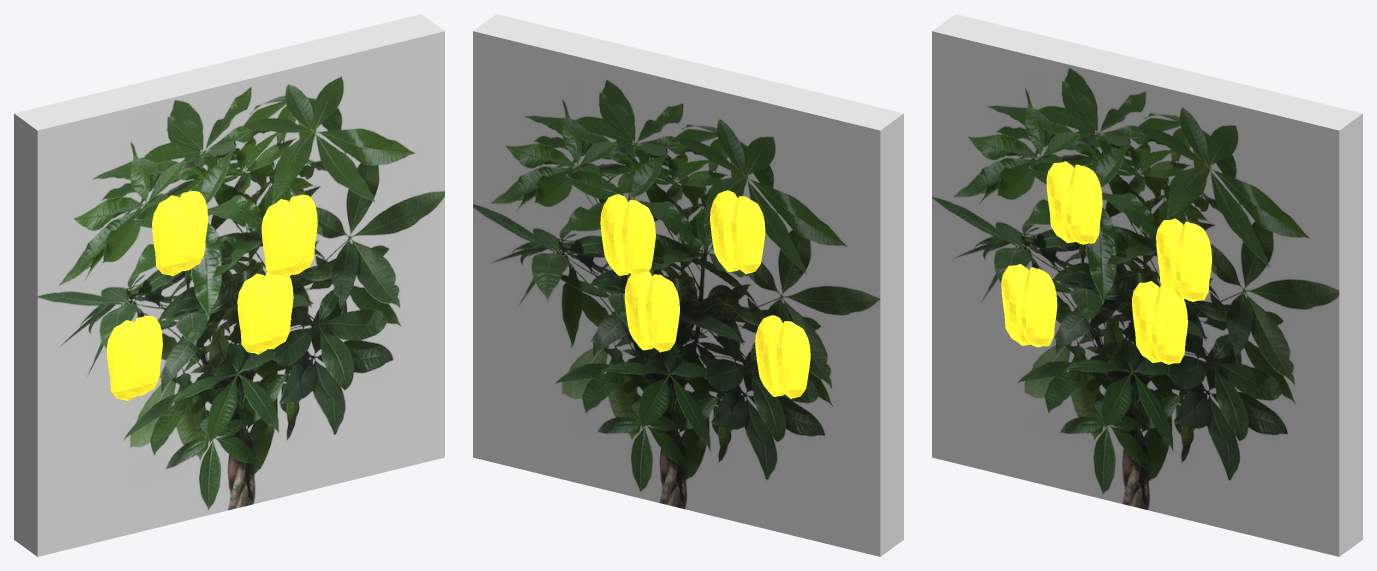
File: pepper_2.dae
The picture shows the model from 3 angles, left to right: view 1: azimuth 30°, elevation 25°; view 2: azimuth 150°, elevation 25°; view 3: azimuth 330°, elevation 25°; orthographic projection.
Visible parts, largest first — view 1: Cube, Sphere, Sphere.002, Sphere.001, Sphere.003; view 2: Cube, Sphere, Sphere.002, Sphere.001, Sphere.003; view 3: Cube, Sphere.002, Sphere, Sphere.001, Sphere.003.
Boxes of the visible parts, x1,y1,x2,y2 form: Cube: (14,14,444,556); Sphere: (106,315,162,400); Sphere.002: (152,191,208,276); Sphere.001: (261,194,317,276); Sphere.003: (237,272,293,354); Cube: (473,14,903,556); Sphere: (755,315,810,398); Sphere.002: (710,190,765,274); Sphere.001: (600,194,655,276); Sphere.003: (624,271,679,352); Cube: (932,14,1362,556); Sphere.002: (1046,161,1102,244); Sphere: (1001,264,1057,347); Sphere.001: (1156,218,1212,301); Sphere.003: (1132,281,1187,364).
Size of the model in its own units: 1 by 0.1795 by 1.
Materials: 2 (1 with a texture image).
